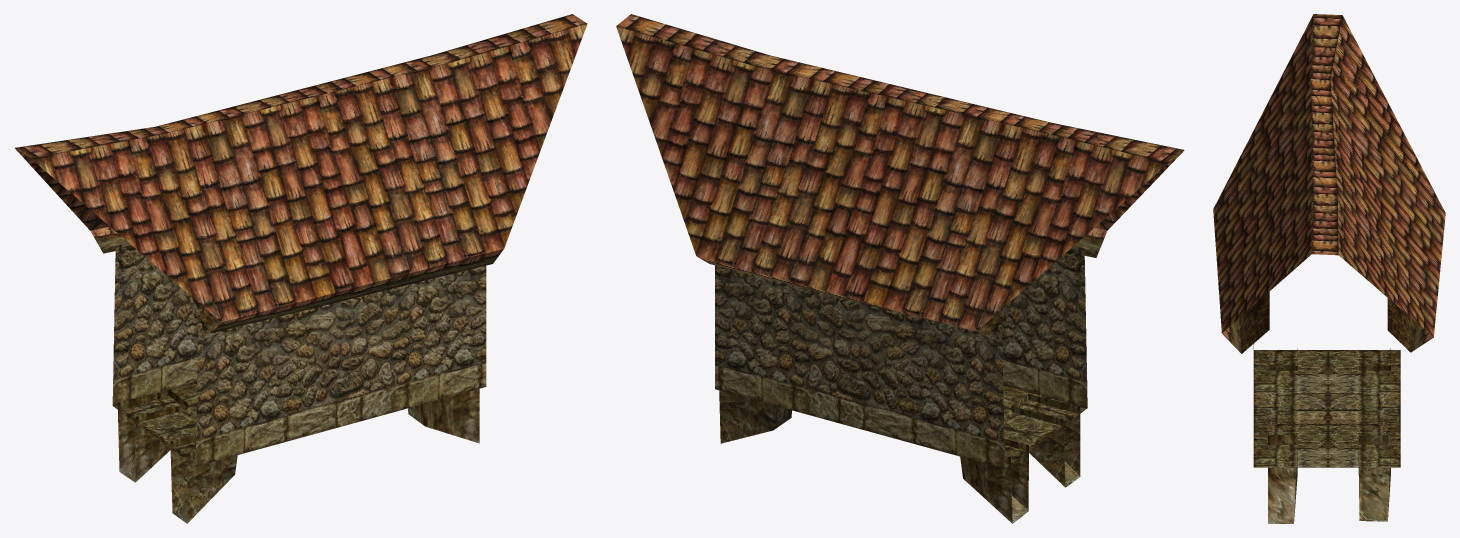
File: hrz11.glb
The picture shows the model from 3 angles, left to right: view 1: azimuth 30°, elevation 25°; view 2: azimuth 150°, elevation 25°; view 3: azimuth 270°, elevation 25°; orthographic projection. The views are drawn at different scales.
Visible parts, largest first — view 1: hrz11-col; view 2: hrz11-col; view 3: hrz11-col.
Boxes of the visible parts, x1,y1,x2,y2 form: hrz11-col: [15, 14, 587, 523]; hrz11-col: [616, 14, 1184, 523]; hrz11-col: [1213, 14, 1445, 523].
Size of the model in its own units: 11.6 by 7.55 by 4.75.
Materials: 4 (4 with a texture image).
